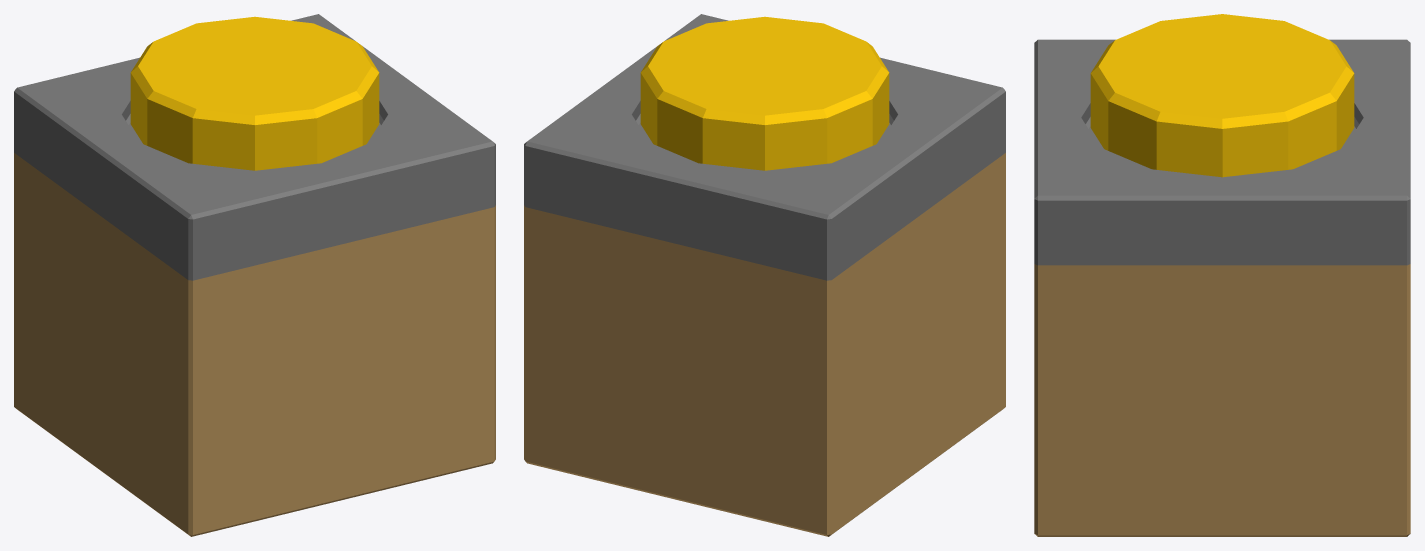
File: HJD_FP_button01.fbx
3 views of the same model, side by side, from view 1: azimuth 30°, elevation 25°; view 2: azimuth 150°, elevation 25°; view 3: azimuth 270°, elevation 25° (orthographic). The views are drawn at different scales.
Parts seen in each view (by area): view 1: button_base, button_cap; view 2: button_base, button_cap; view 3: button_base, button_cap.
Part boxes in pixels (box(x1,y1,x2,y2)): button_base: box(14, 14, 495, 536); button_cap: box(130, 16, 379, 170); button_base: box(524, 14, 1005, 536); button_cap: box(640, 16, 889, 170); button_base: box(1034, 39, 1410, 536); button_cap: box(1090, 14, 1354, 177).
Size of the model in its own units: 100 by 115 by 100.
